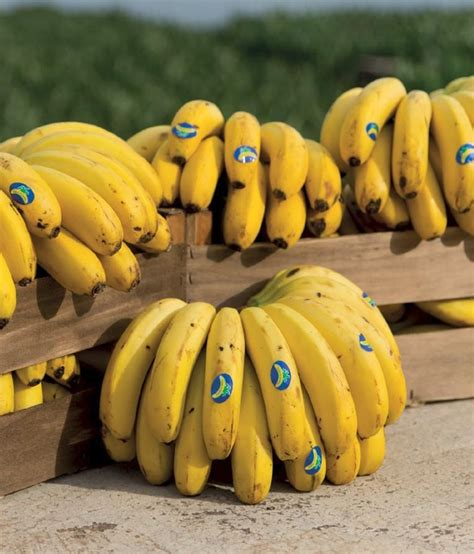banana: (146, 298, 215, 452), (24, 161, 124, 257), (340, 72, 411, 174), (202, 302, 245, 467), (392, 87, 436, 205), (255, 118, 307, 202), (222, 107, 262, 194)
